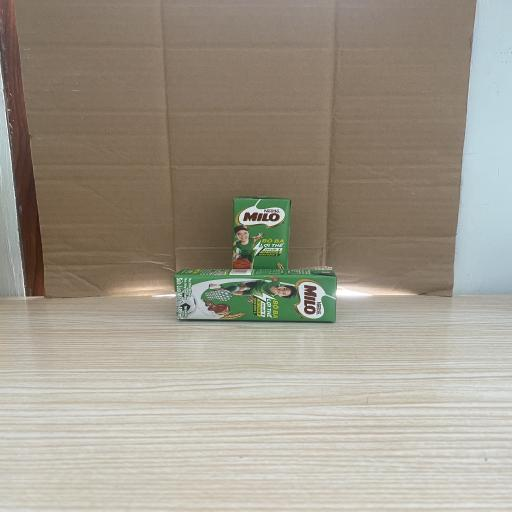milo: (174, 266, 337, 322), (234, 197, 290, 268)
